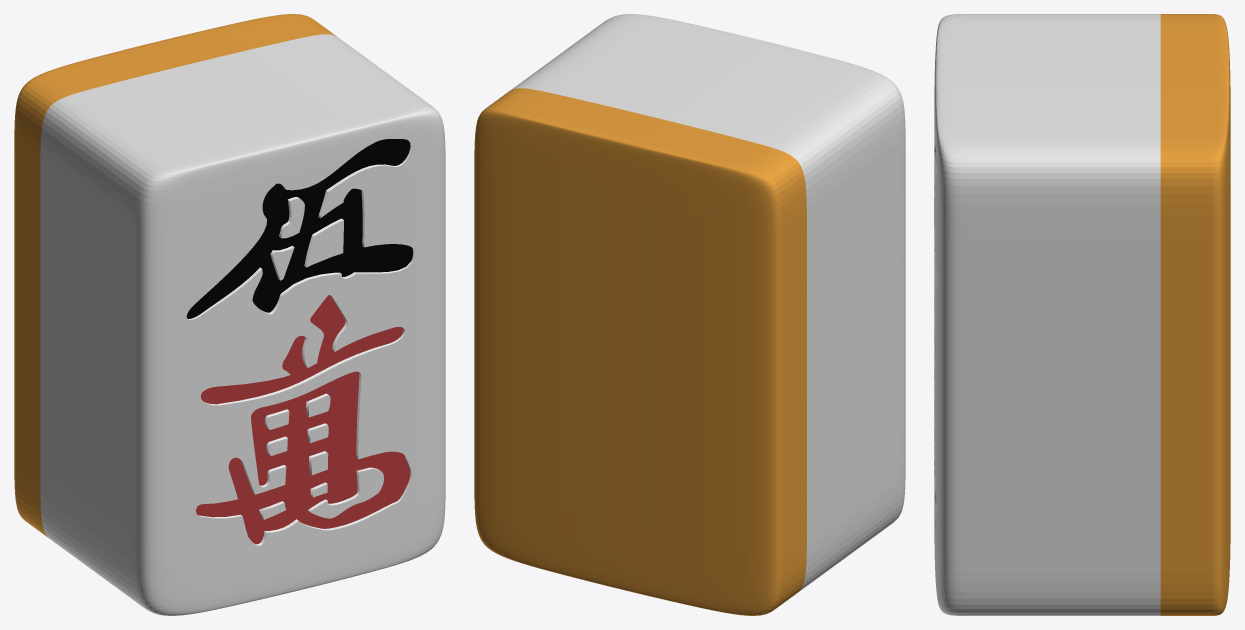
The model's file is Man5.fbx.
3 renders of one model, left to right at view 1: azimuth 30°, elevation 25°; view 2: azimuth 150°, elevation 25°; view 3: azimuth 270°, elevation 25°, orthographic. The views are drawn at different scales.
Visible parts, largest first — view 1: Man5; view 2: Man5; view 3: Man5.
Part boxes in pixels (left/top/right/bottom): Man5: left=14, top=14, right=445, bottom=615; Man5: left=474, top=14, right=905, bottom=615; Man5: left=934, top=14, right=1230, bottom=615.
Size of the model in its own units: 2 by 2.8 by 1.59.
